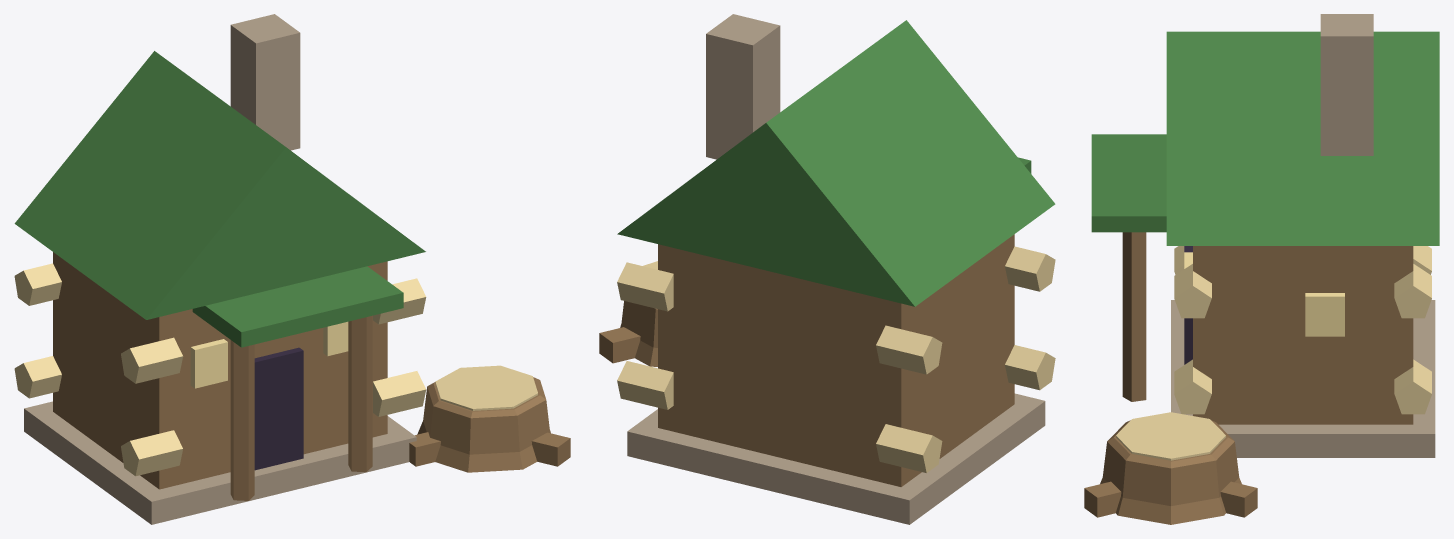
Rendered from forest-landmark-s2c.glb.
3 views of the same model, side by side, from view 1: azimuth 30°, elevation 25°; view 2: azimuth 150°, elevation 25°; view 3: azimuth 270°, elevation 25° (orthographic). The views are drawn at different scales.
Parts seen in each view (by area): view 1: forest-landmark-s2c; view 2: forest-landmark-s2c; view 3: forest-landmark-s2c.
Boxes of the visible parts, left/top/right/bottom form: forest-landmark-s2c: left=14, top=14, right=570, bottom=524; forest-landmark-s2c: left=599, top=14, right=1055, bottom=524; forest-landmark-s2c: left=1084, top=14, right=1439, bottom=524.
Bounding box in the file's own units: 1.11 × 1 × 0.8069.
